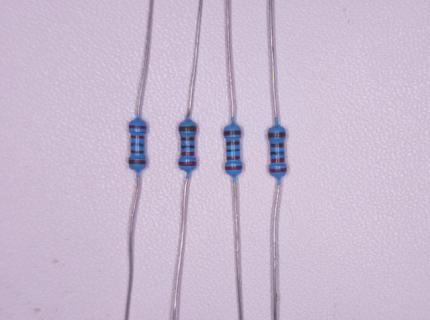Black band: (131, 143, 144, 147), (181, 145, 194, 149), (271, 151, 284, 155), (226, 149, 240, 152)
Brown band: (128, 159, 147, 165), (224, 131, 242, 136), (268, 132, 286, 137), (179, 126, 196, 131), (181, 136, 194, 141), (130, 150, 144, 154), (226, 141, 240, 145), (270, 143, 284, 147)
Red band: (178, 161, 197, 166), (269, 168, 287, 173), (128, 125, 147, 129), (225, 166, 242, 170), (271, 158, 284, 163), (226, 156, 240, 160), (181, 151, 195, 155), (131, 135, 145, 139)
